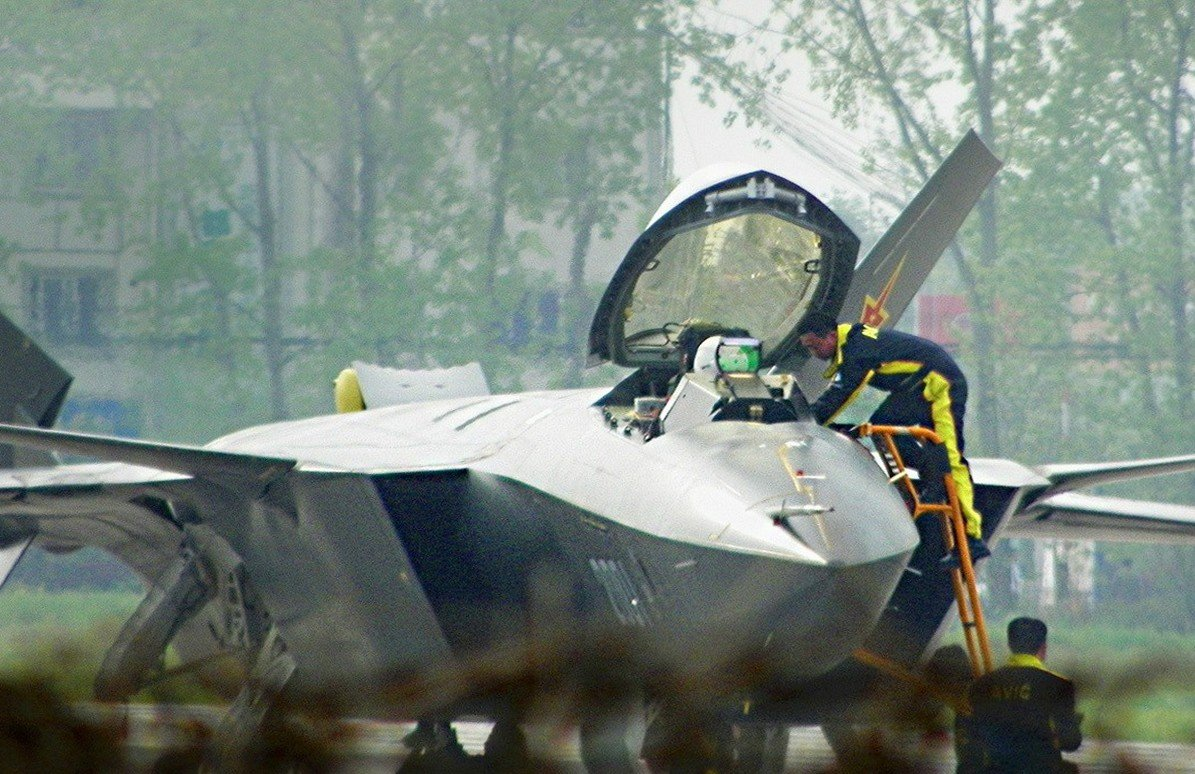J20: (1, 127, 1195, 774)
